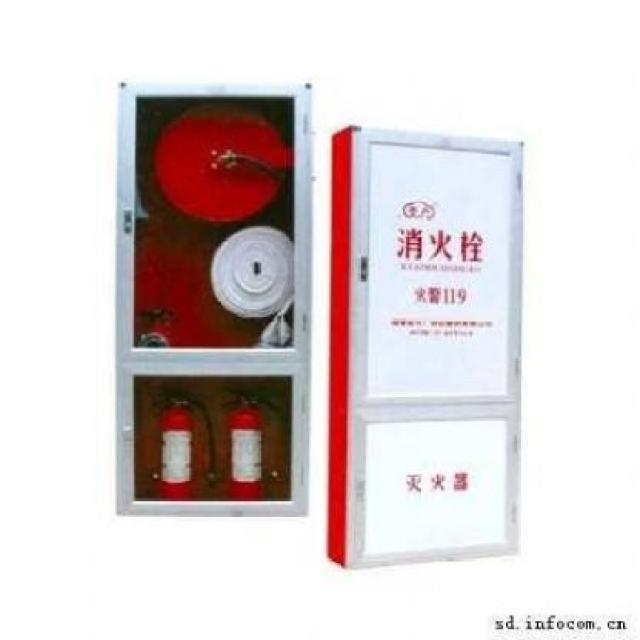firehydrant: (322, 118, 530, 574), (111, 77, 315, 524)
